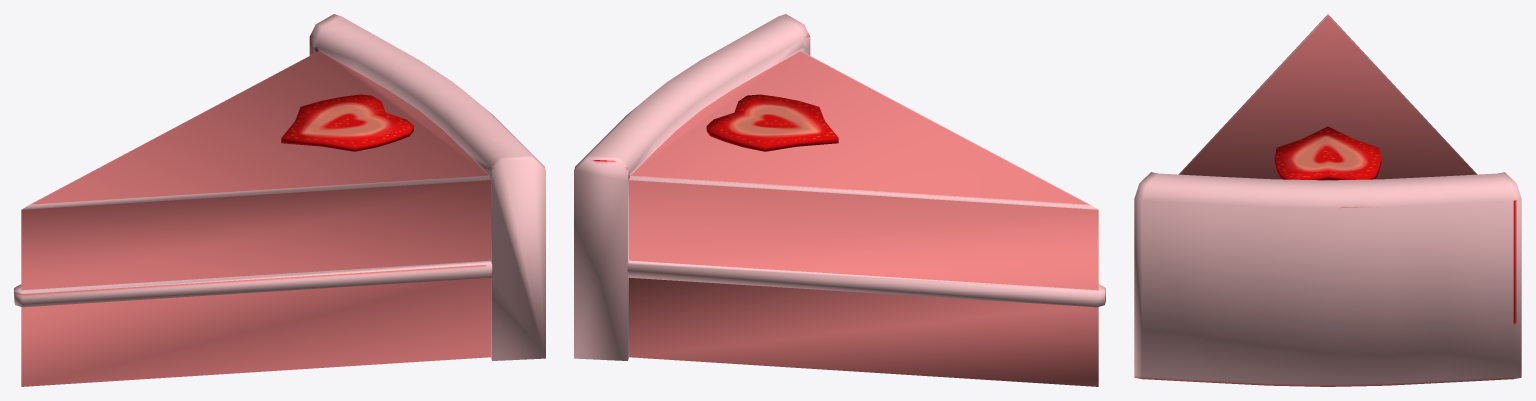
Rendered from stewbarycak.fbx.
3 renders of one model, left to right at view 1: azimuth 30°, elevation 25°; view 2: azimuth 150°, elevation 25°; view 3: azimuth 270°, elevation 25°, orthographic. The views are drawn at different scales.
Visible parts, largest first — view 1: Plane.001; view 2: Plane.001; view 3: Plane.001.
Part boxes in pixels (x1,y1,x2,y2): Plane.001: (14, 14, 545, 386); Plane.001: (574, 14, 1105, 386); Plane.001: (1134, 14, 1521, 386).
Size of the model in its own units: 171 by 72.52 by 134.
